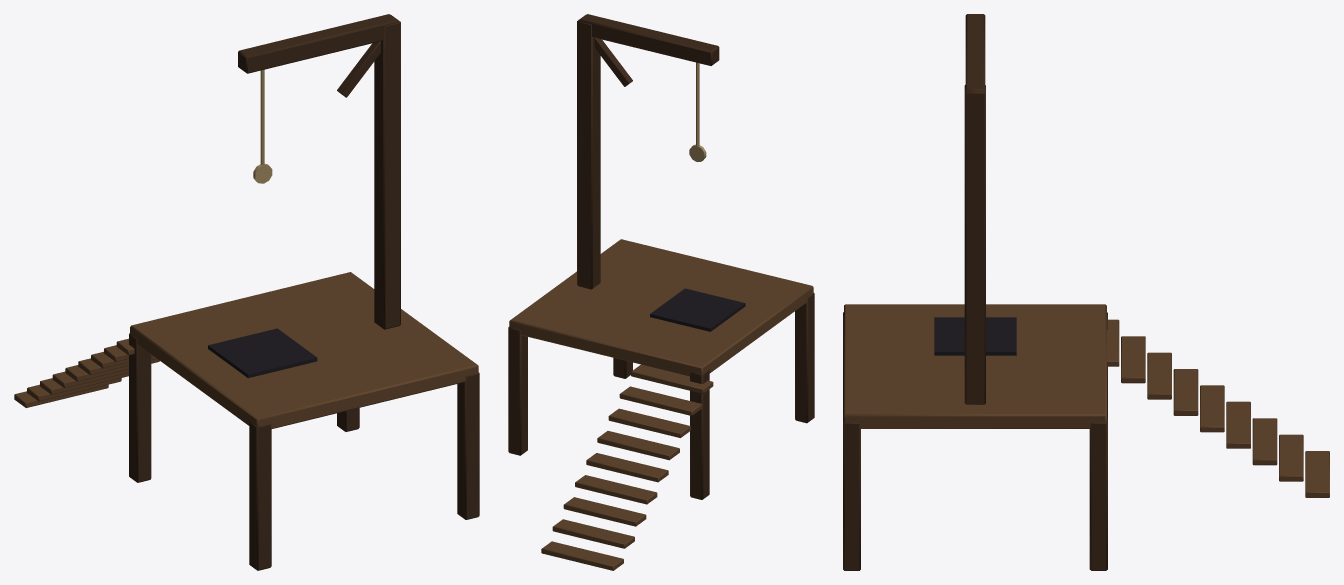
The model's file is gallows.glb.
3 renders of one model, left to right at view 1: azimuth 30°, elevation 25°; view 2: azimuth 150°, elevation 25°; view 3: azimuth 270°, elevation 25°, orthographic. The views are drawn at different scales.
Parts seen in each view (by area): view 1: gallows; view 2: gallows; view 3: gallows.
Part boxes in pixels (x1,y1,x2,y2): gallows: (14, 14, 479, 570); gallows: (508, 14, 814, 570); gallows: (843, 14, 1329, 570).
Size of the model in its own units: 3.31 by 6.32 by 5.92.
